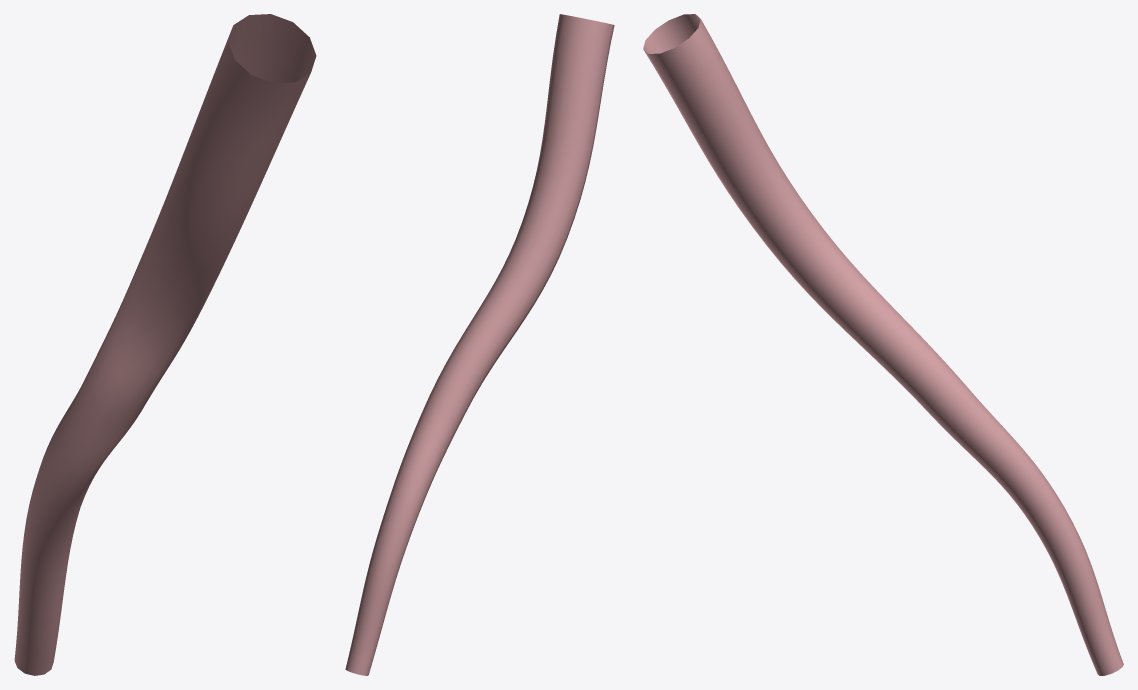
3 renders of one model, left to right at view 1: azimuth 30°, elevation 25°; view 2: azimuth 150°, elevation 25°; view 3: azimuth 270°, elevation 25°, orthographic. The views are drawn at different scales.
Visible parts, largest first — view 1: ZA_69fc483714f267d4; view 2: ZA_69fc483714f267d4; view 3: ZA_69fc483714f267d4.
Boxes of the visible parts, box(x1,y1,x2,y2) form: ZA_69fc483714f267d4: box(14, 14, 316, 675); ZA_69fc483714f267d4: box(345, 14, 614, 675); ZA_69fc483714f267d4: box(643, 14, 1123, 675).
Bounding box in the file's own units: 0.0119 × 0.074 × 0.0512.
